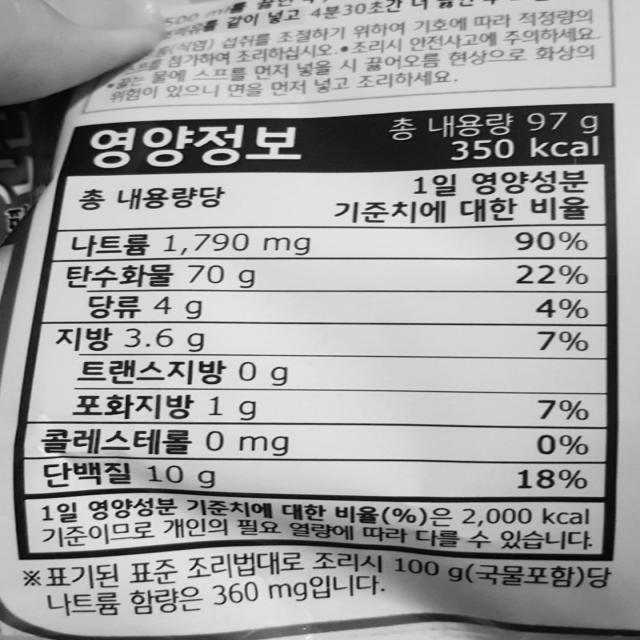Nutrition Label: (18, 105, 640, 570)
